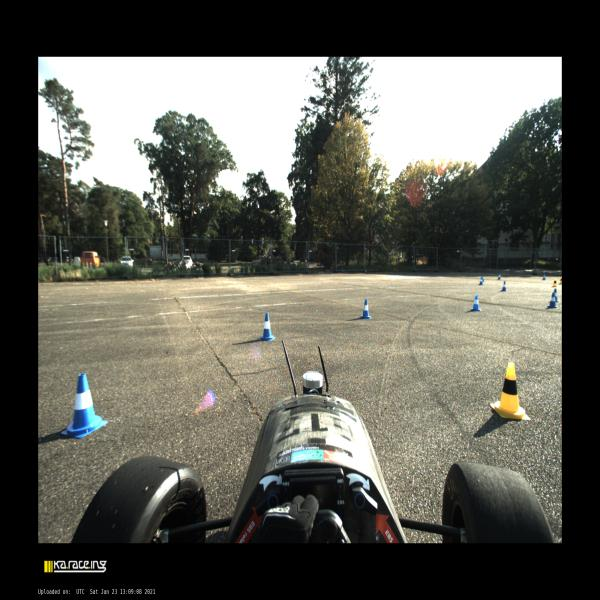blue_cone: (61, 373, 108, 440), (258, 312, 275, 342), (360, 298, 372, 319), (471, 294, 482, 312), (547, 292, 558, 308), (500, 280, 508, 292), (554, 288, 559, 302), (478, 277, 484, 285), (497, 273, 501, 280), (542, 274, 546, 280), (482, 275, 485, 282)
yellow_cone: (490, 361, 530, 420), (552, 278, 557, 288), (558, 277, 562, 284)
